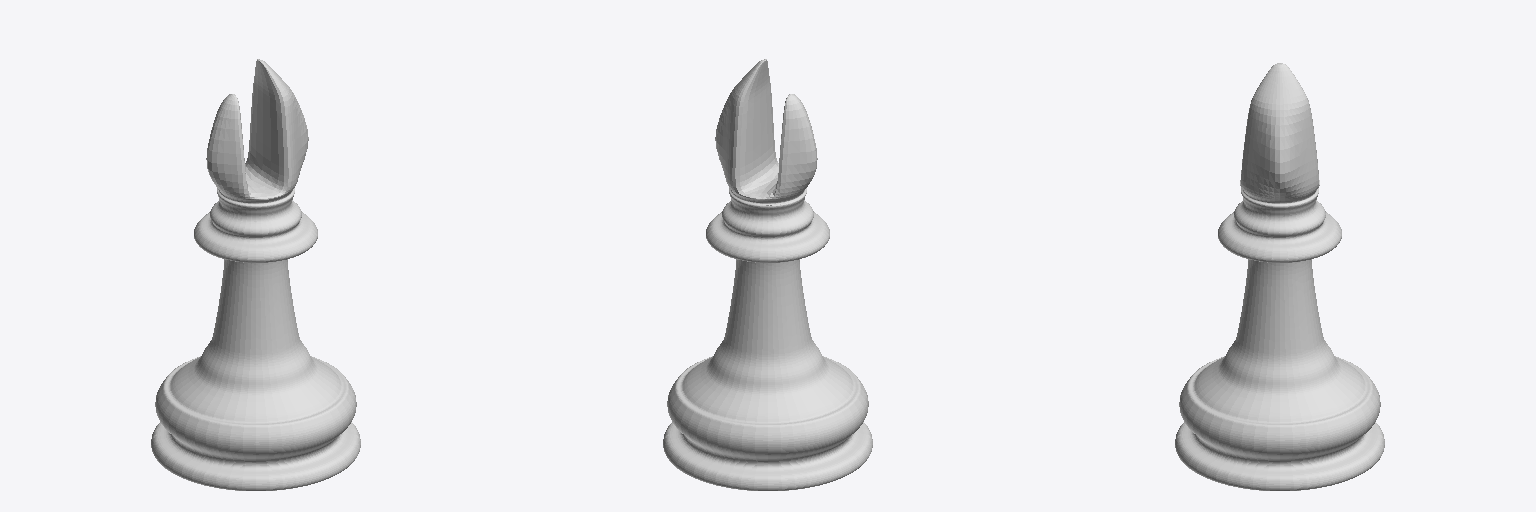
Rendered from Bishop.obj.
3 renders of one model, left to right at view 1: azimuth 30°, elevation 25°; view 2: azimuth 150°, elevation 25°; view 3: azimuth 270°, elevation 25°, orthographic.
Parts seen in each view (by area): view 1: mesh01.003; view 2: mesh01.003; view 3: mesh01.003.
Part boxes in pixels (bbox=[...]): mesh01.003: bbox=[151, 59, 360, 490]; mesh01.003: bbox=[663, 59, 872, 490]; mesh01.003: bbox=[1175, 63, 1384, 490].
Size of the model in its own units: 0.0132 by 0.0269 by 0.0132.